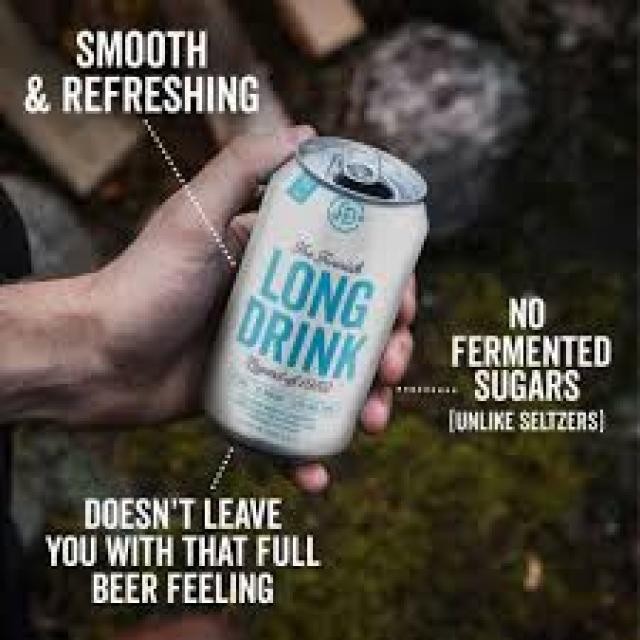Cans: (188, 128, 446, 475)
